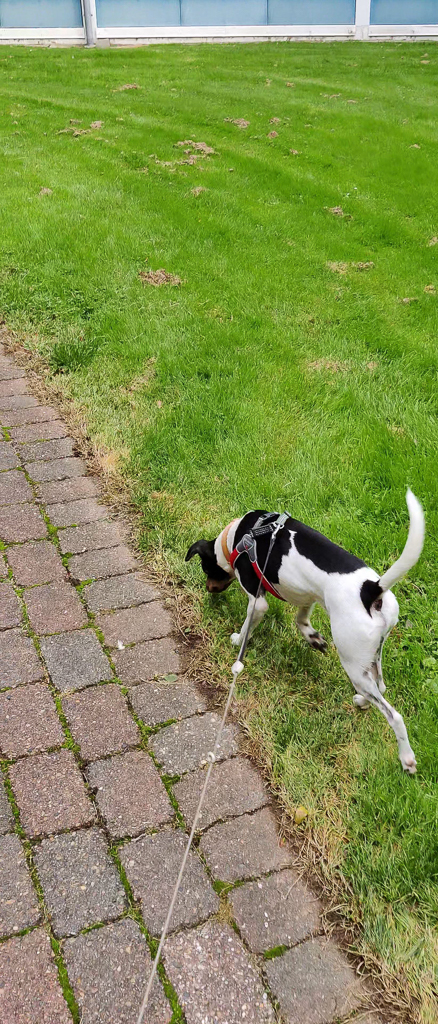Dog: (170, 480, 431, 782)
